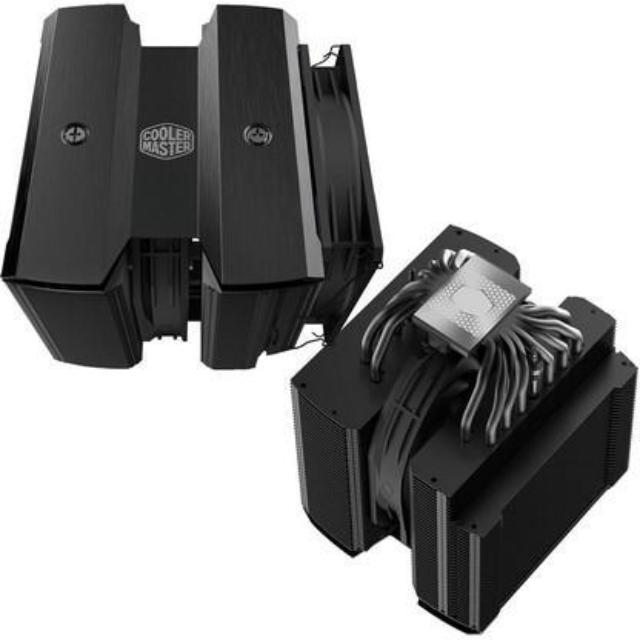CPU_Fan: (272, 213, 636, 639), (3, 0, 388, 374)
